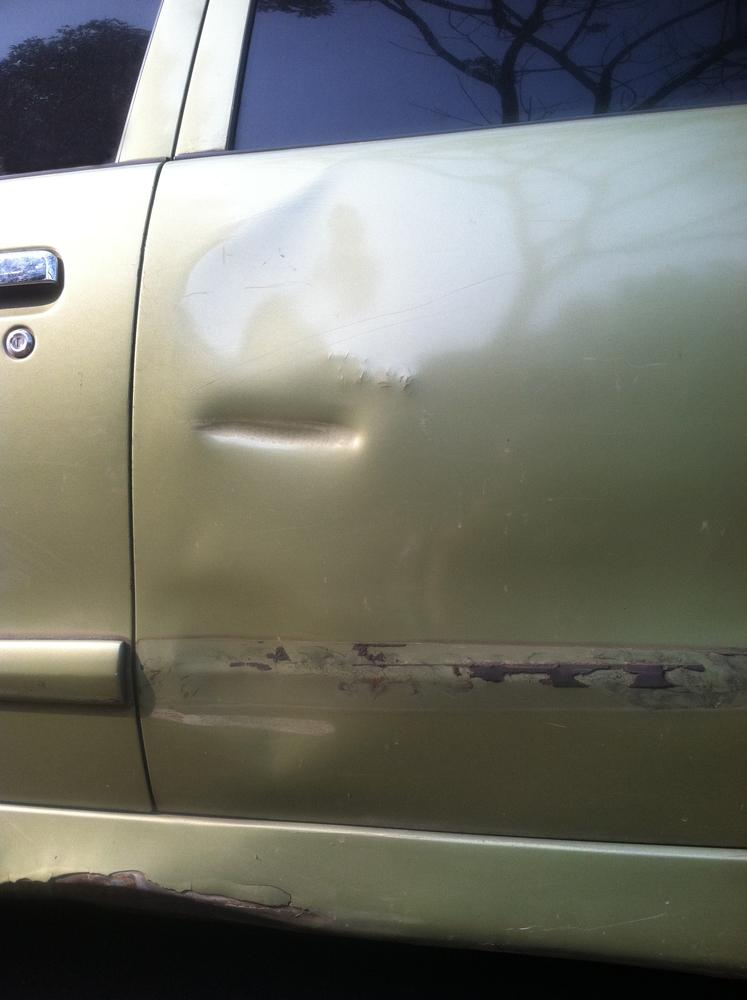dent: (186, 167, 376, 361), (173, 578, 333, 770), (188, 393, 361, 455)
scratch: (329, 641, 747, 712)
